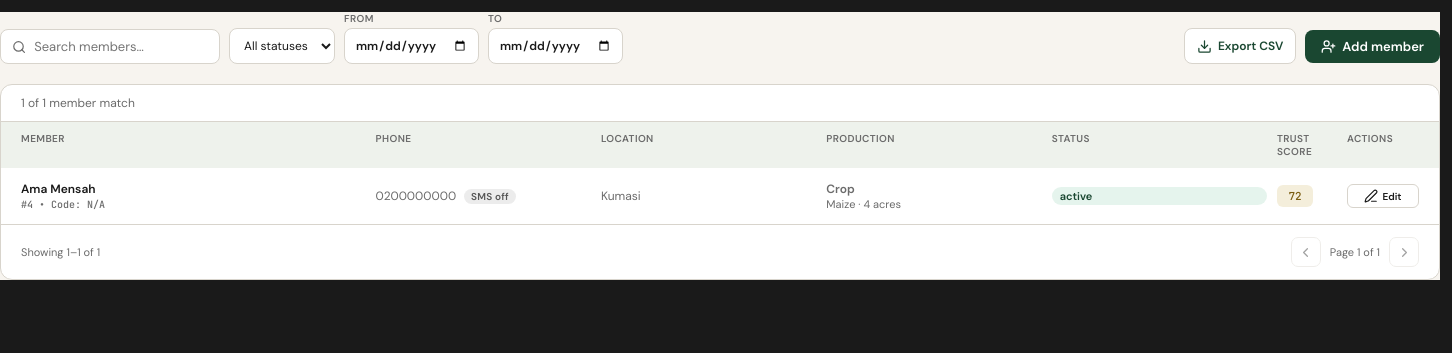
Scenario: Members administration › announces export failures to the user
Click the button with aria-label "Export filtered Members as CSV" at (1240, 46), box 1184,28 -> 1296,64
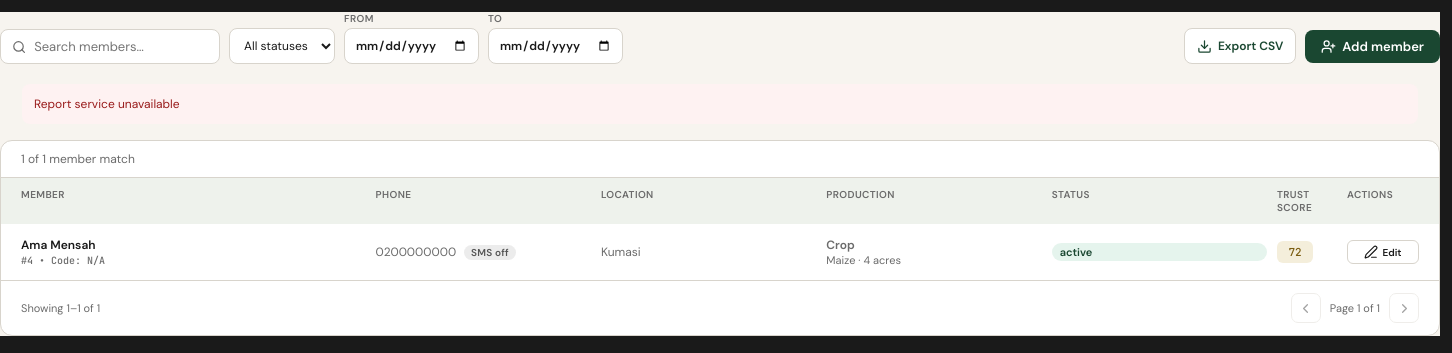
Now the message reads "Report service unavailable", box 34,96 -> 180,112
